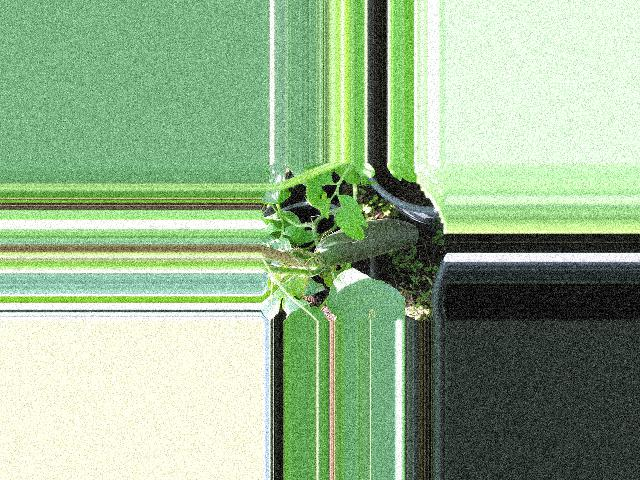cucumber: (315, 219, 418, 265)
